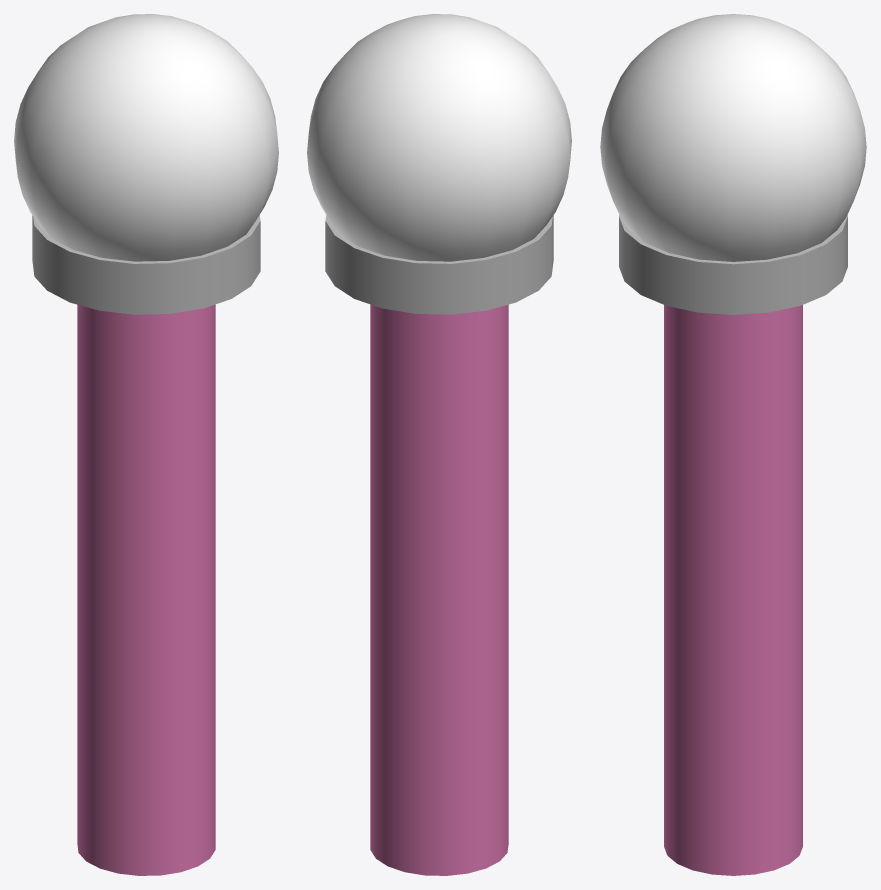
The model's file is alphaWand.fbx.
The picture shows the model from 3 angles, left to right: view 1: azimuth 30°, elevation 25°; view 2: azimuth 150°, elevation 25°; view 3: azimuth 270°, elevation 25°; orthographic projection.
Parts seen in each view (by area): view 1: wandBase_geo, wandCapsule_geo; view 2: wandBase_geo, wandCapsule_geo; view 3: wandBase_geo, wandCapsule_geo.
Boxes of the visible parts, x1=… form: wandBase_geo: x1=32, y1=215, x2=260, y2=875; wandCapsule_geo: x1=14, y1=14, x2=278, y2=261; wandBase_geo: x1=325, y1=215, x2=553, y2=875; wandCapsule_geo: x1=307, y1=14, x2=571, y2=261; wandBase_geo: x1=619, y1=215, x2=847, y2=875; wandCapsule_geo: x1=600, y1=14, x2=866, y2=261.
Size of the model in its own units: 2.3 by 7.81 by 2.3.
